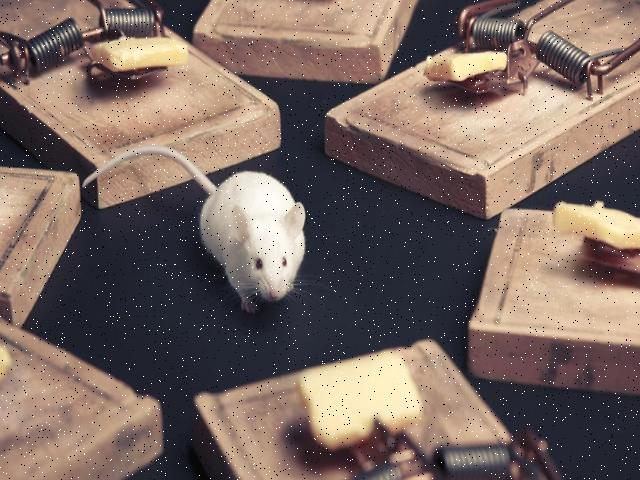Tikus: (96, 144, 340, 312)
